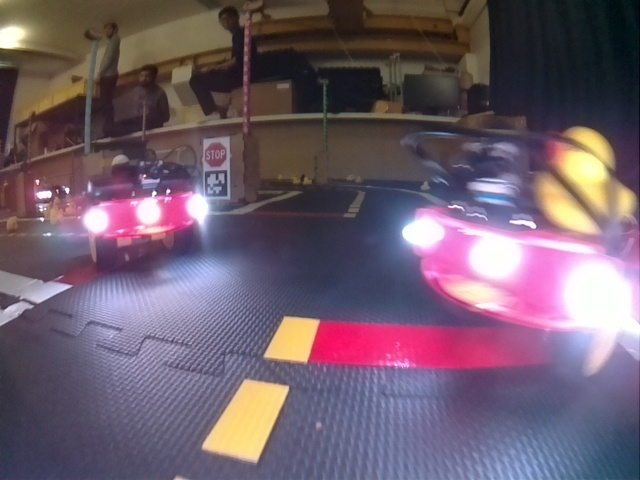Duckie: (537, 126, 636, 232), (303, 177, 312, 186), (292, 177, 301, 185), (421, 182, 428, 191), (355, 176, 363, 183)
Duckiebot: (403, 129, 638, 334), (86, 160, 204, 264)
QR code: (205, 170, 229, 197)
Stop sign: (205, 143, 227, 167)
